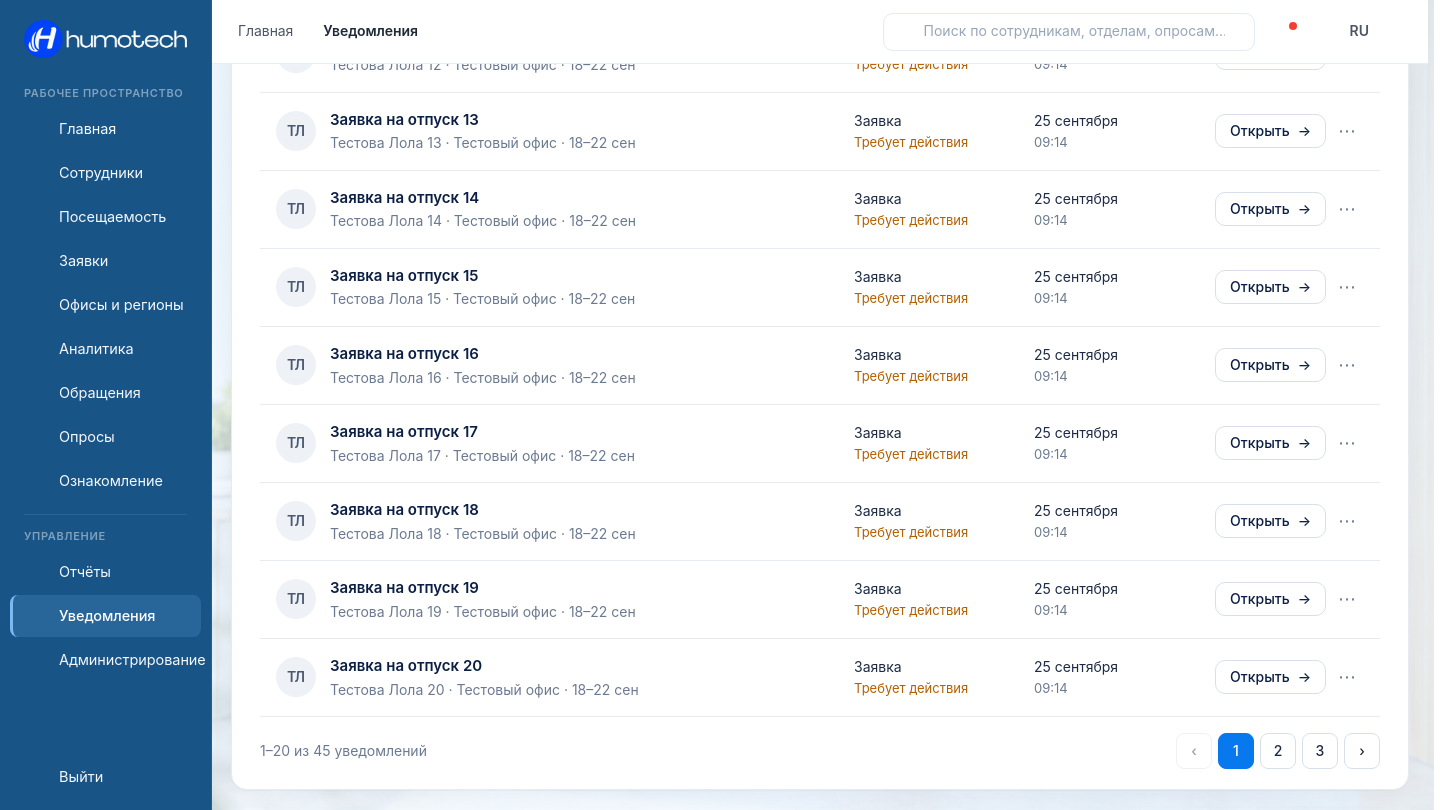
лента событий › опустевшая последняя страница — шаг назад
(page scrolled)
// Пока человек думал, часть событий закрыли: на третьей странице пусто.
Click the button named "Страница 3": (1320, 751) left=1302, top=733, right=1338, bottom=769
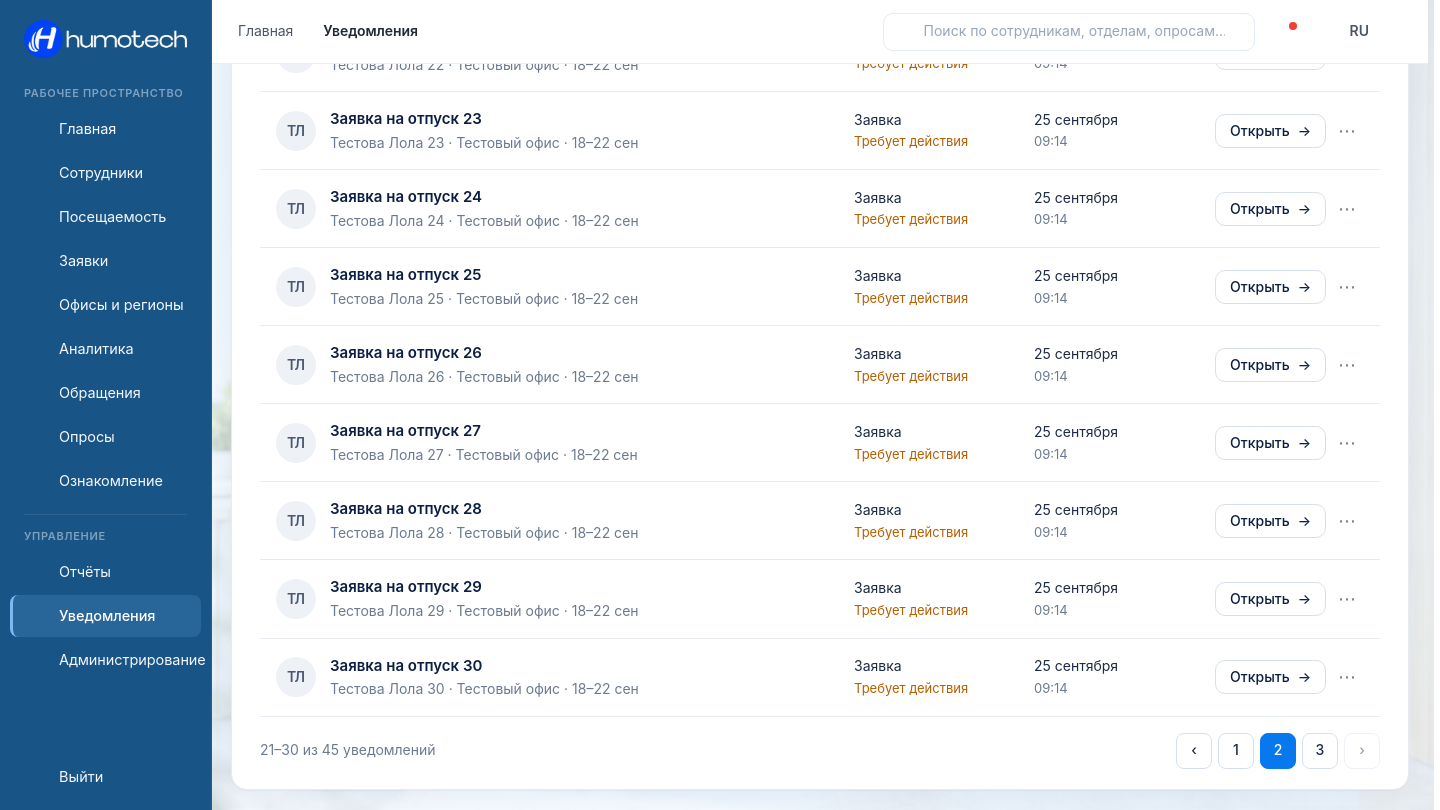
Expected: the text "21–30 из 45 уведомлений" is shown, left=260, top=740, right=436, bottom=761
